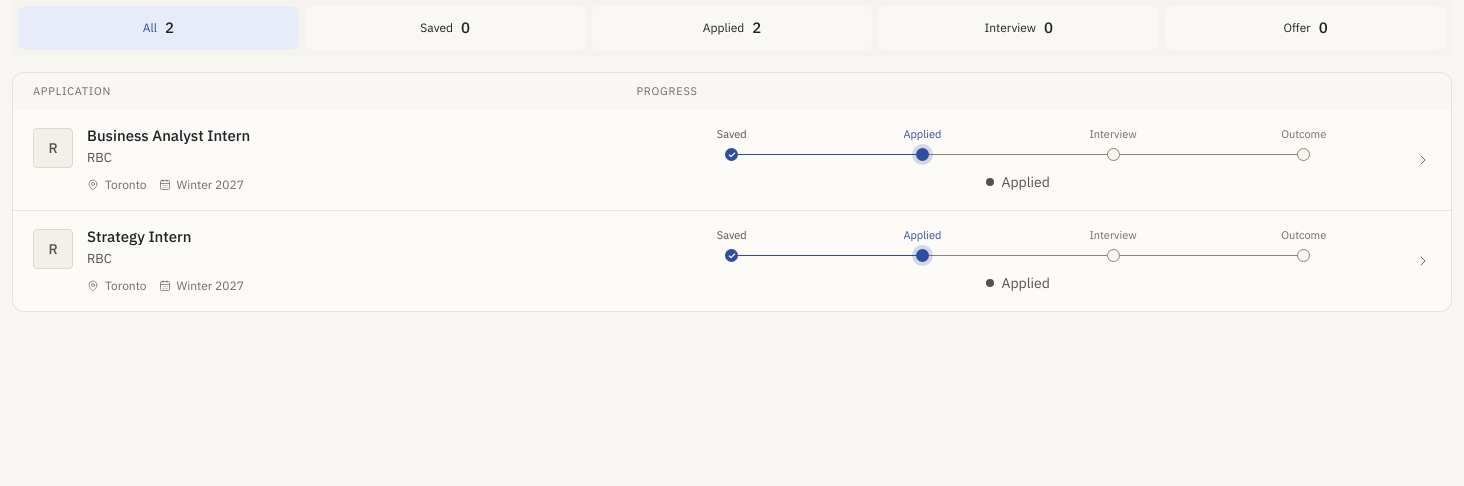
Test: the desktop selected-record workspace › keeps the desktop demo preview read-only without a detail-route link
The width and height of the screenshot is (1464, 486).
Click the button with aria-label "Show details for Strategy Intern" at (732,261), box [13,211,1451,311]
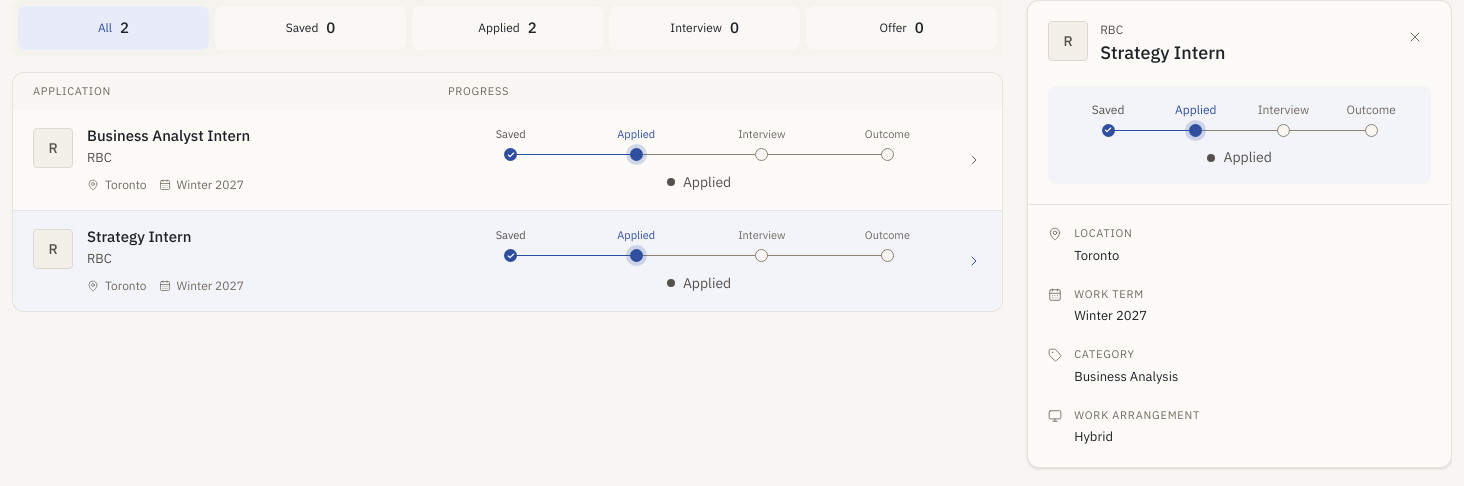
Now the 1st heading "Strategy Intern" is shown, box [1100,41,1226,64]
Now the button named "Close application preview" is shown, box [1399,21,1431,53]
